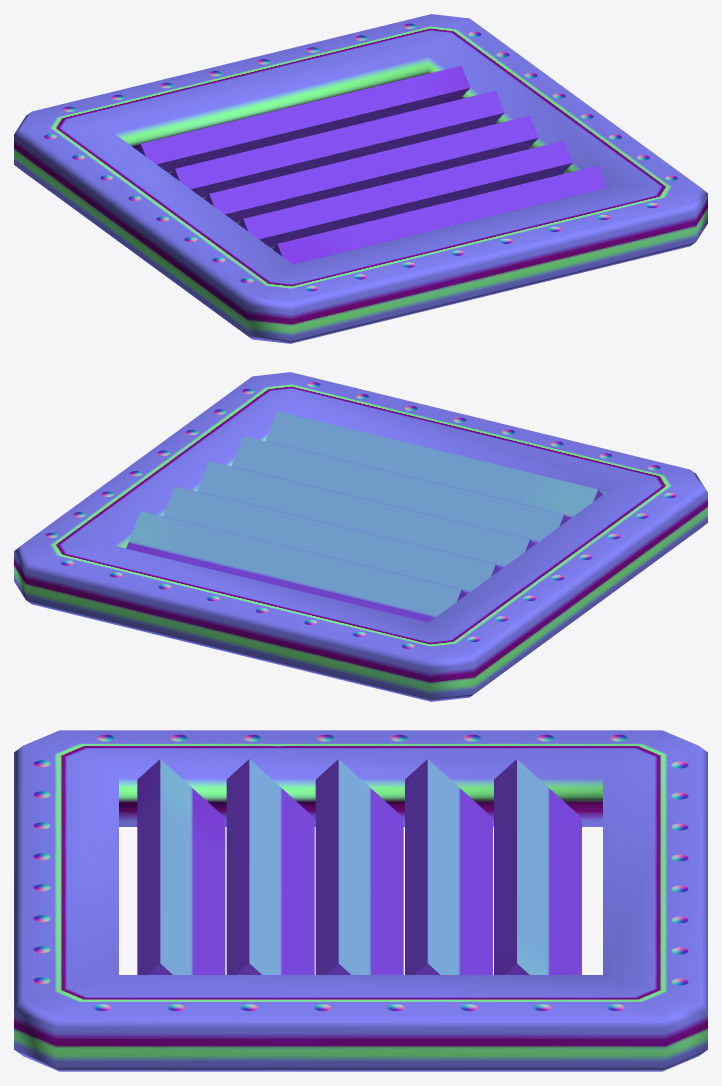
File: sm_ventilation_03.fbx
3 renders of one model, top to bottom at view 1: azimuth 30°, elevation 25°; view 2: azimuth 150°, elevation 25°; view 3: azimuth 270°, elevation 25°, orthographic. The views are drawn at different scales.
Visible parts, largest first — view 1: sm_ventilation_03; view 2: sm_ventilation_03; view 3: sm_ventilation_03.
Boxes of the visible parts, x1,y1,x2,y2 form: sm_ventilation_03: (14, 14, 707, 343); sm_ventilation_03: (14, 372, 707, 701); sm_ventilation_03: (14, 730, 707, 1071).
Size of the model in its own units: 176 by 22.35 by 176.
1 material, 1 textured.
